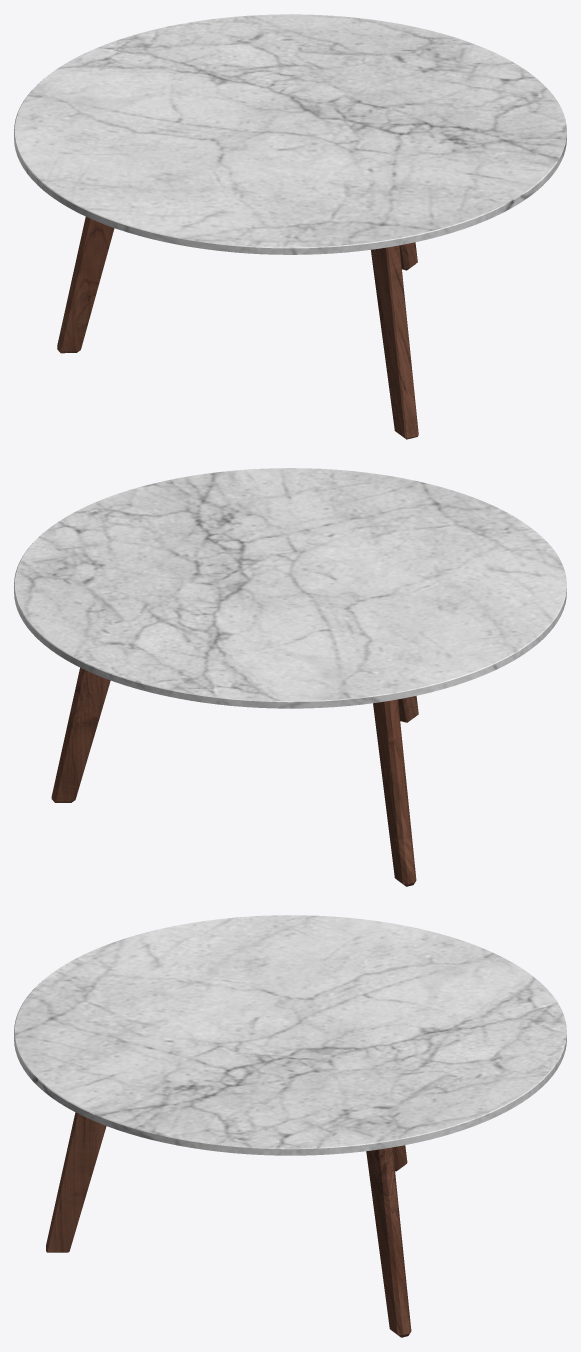
File: marblecoffeetable.glb
3 renders of one model, top to bottom at view 1: azimuth 30°, elevation 25°; view 2: azimuth 150°, elevation 25°; view 3: azimuth 270°, elevation 25°, orthographic.
Visible parts, largest first — view 1: coffee-table_TableTop; view 2: coffee-table_TableTop; view 3: coffee-table_TableTop.
Boxes of the visible parts, bbox=[...] form: coffee-table_TableTop: bbox=[14, 14, 566, 439]; coffee-table_TableTop: bbox=[14, 468, 566, 886]; coffee-table_TableTop: bbox=[14, 915, 566, 1337].
Bounding box in the file's own units: 140 × 61 × 140.
Materials: 2 (2 with a texture image).
